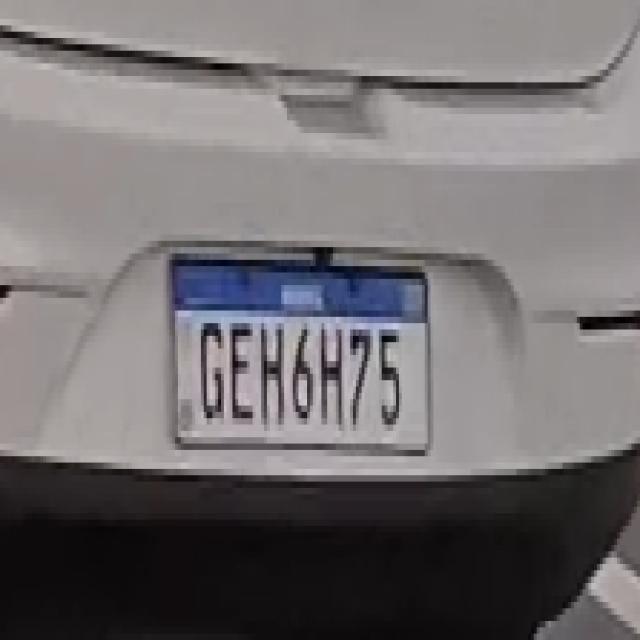Placa_mercosul_carro: (168, 252, 431, 461)
